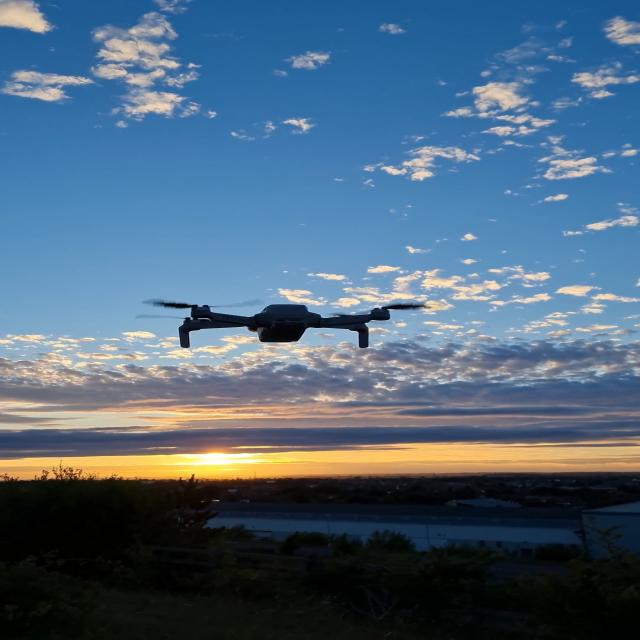Drone: (158, 283, 425, 377)
